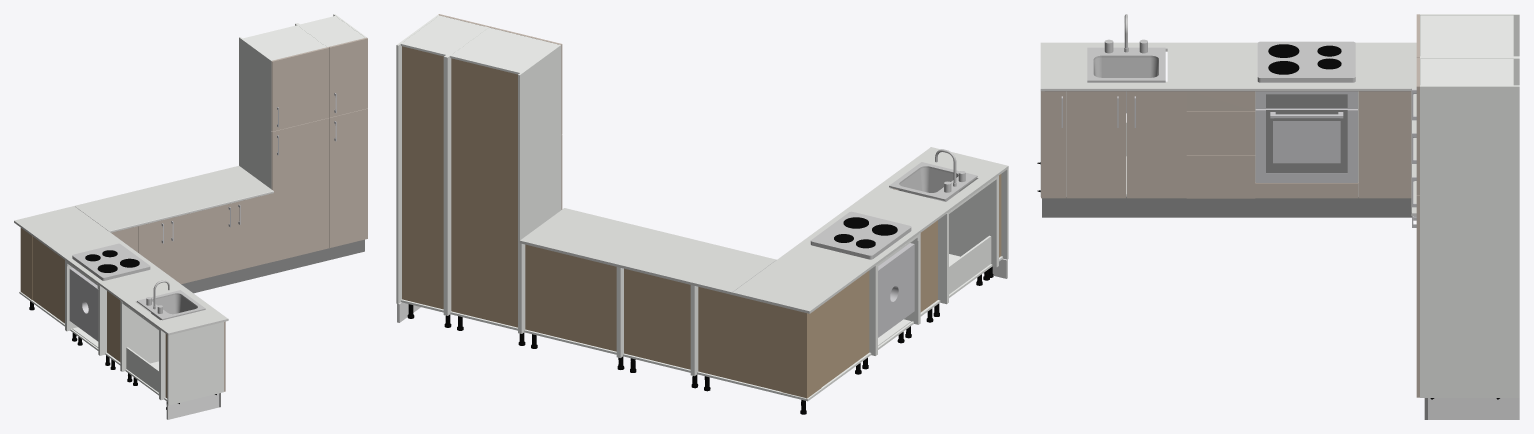
File: kux1.glb
3 views of the same model, side by side, from view 1: azimuth 30°, elevation 25°; view 2: azimuth 150°, elevation 25°; view 3: azimuth 270°, elevation 25° (orthographic). The views are drawn at different scales.
Visible parts, largest first — view 1: geometry-lumionModel.002, geometry-lumionModel.001, geometry-lumionModel.009, geometry-lumionModel.004, geometry-lumionModel.014, geometry-lumionModel, geometry-lumionModel.012, geometry-lumionModel.010, geometry-lumionModel.006, geometry-lumionModel.013, geometry-lumionModel.011; view 2: geometry-lumionModel.004, geometry-lumionModel.001, geometry-lumionModel.009, geometry-lumionModel, geometry-lumionModel.012, geometry-lumionModel.010, geometry-lumionModel.006, geometry-lumionModel.003, geometry-lumionModel.011, geometry-lumionModel.002; view 3: geometry-lumionModel.001, geometry-lumionModel.002, geometry-lumionModel.009, geometry-lumionModel.014, geometry-lumionModel, geometry-lumionModel.007, geometry-lumionModel.012, geometry-lumionModel.010, geometry-lumionModel.013, geometry-lumionModel.011.
Part boxes in pixels (x1=…): geometry-lumionModel.002: x1=111, y1=37, x2=367, y2=391; geometry-lumionModel.001: x1=19, y1=14, x2=366, y2=405; geometry-lumionModel.009: x1=14, y1=166, x2=273, y2=335; geometry-lumionModel.004: x1=20, y1=228, x2=167, y2=398; geometry-lumionModel.014: x1=181, y1=239, x2=364, y2=407; geometry-lumionModel: x1=69, y1=93, x2=336, y2=341; geometry-lumionModel.012: x1=72, y1=243, x2=150, y2=280; geometry-lumionModel.010: x1=137, y1=280, x2=205, y2=320; geometry-lumionModel.006: x1=107, y1=291, x2=120, y2=361; geometry-lumionModel.013: x1=166, y1=393, x2=218, y2=419; geometry-lumionModel.011: x1=85, y1=250, x2=139, y2=272; geometry-lumionModel.004: x1=402, y1=46, x2=1001, y2=398; geometry-lumionModel.001: x1=396, y1=15, x2=1008, y2=401; geometry-lumionModel.009: x1=519, y1=147, x2=1008, y2=313; geometry-lumionModel: x1=878, y1=243, x2=914, y2=337; geometry-lumionModel.012: x1=810, y1=211, x2=911, y2=259; geometry-lumionModel.010: x1=889, y1=149, x2=977, y2=201; geometry-lumionModel.006: x1=920, y1=220, x2=937, y2=312; geometry-lumionModel.003: x1=407, y1=266, x2=993, y2=414; geometry-lumionModel.011: x1=834, y1=217, x2=897, y2=248; geometry-lumionModel.002: x1=438, y1=14, x2=897, y2=209; geometry-lumionModel.001: x1=1040, y1=14, x2=1519, y2=397; geometry-lumionModel.002: x1=1041, y1=14, x2=1419, y2=397; geometry-lumionModel.009: x1=1040, y1=42, x2=1416, y2=216; geometry-lumionModel.014: x1=1042, y1=196, x2=1427, y2=419; geometry-lumionModel: x1=1061, y1=89, x2=1416, y2=227; geometry-lumionModel.007: x1=1266, y1=94, x2=1347, y2=173; geometry-lumionModel.012: x1=1257, y1=41, x2=1355, y2=82; geometry-lumionModel.010: x1=1087, y1=14, x2=1165, y2=113; geometry-lumionModel.013: x1=1428, y1=398, x2=1519, y2=419; geometry-lumionModel.011: x1=1268, y1=44, x2=1341, y2=74.
Size of the model in its own units: 3.37 by 2.15 by 2.81.
